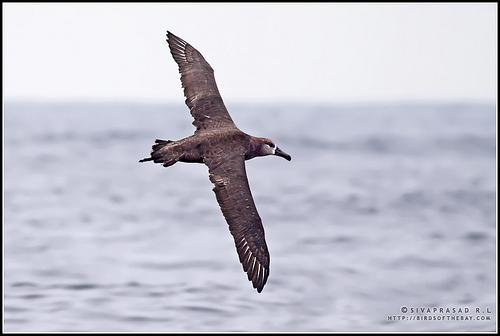001.Black_footed_Albatross: (138, 30, 295, 295)
